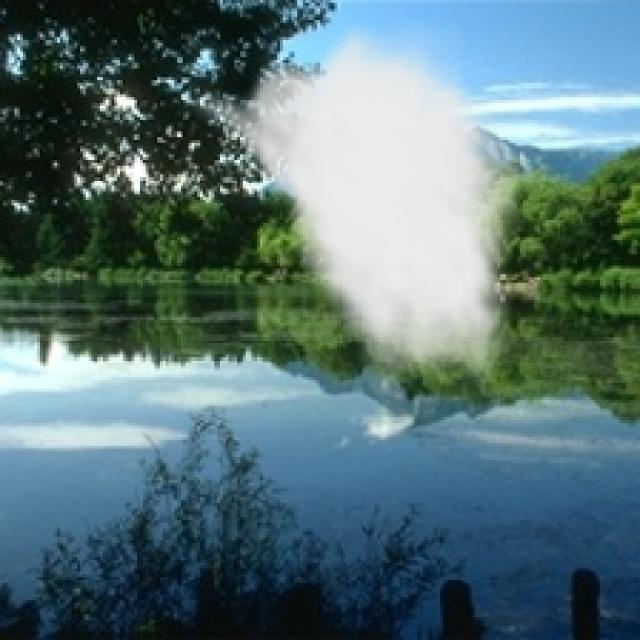smoke: (183, 14, 528, 400)
